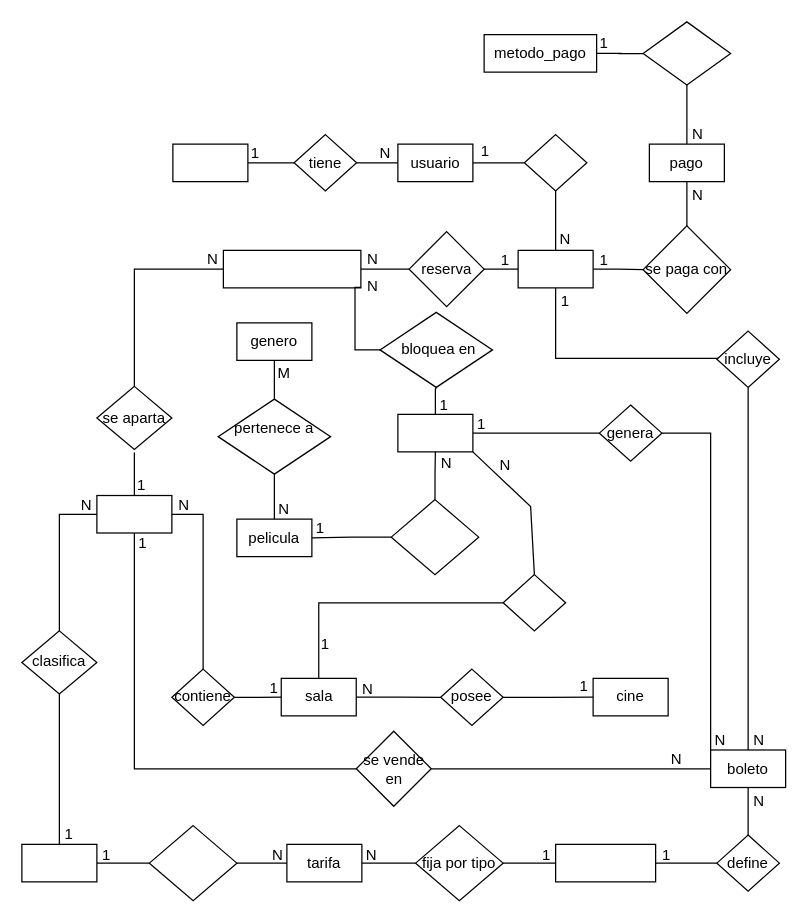
Some shapes in this 808 by 923 pixel diagram are drawn without their labels. Here are the shapes that lost their labels. From the top down, the centre of each, then its label:
At [686,53]: "procesa".
At [210,162]: "rol".
At [555,162]: "realiza".
At [291,268]: "bloqueo_asiento".
At [555,268]: "orden".
At [435,432]: "funcion".
At [134,513]: "asiento".
At [434,536]: "se programa".
At [534,602]: "aloja".
At [59,862]: "zona".
At [192,862]: "fija por zona".
At [605,862]: "tipo_entrada".
